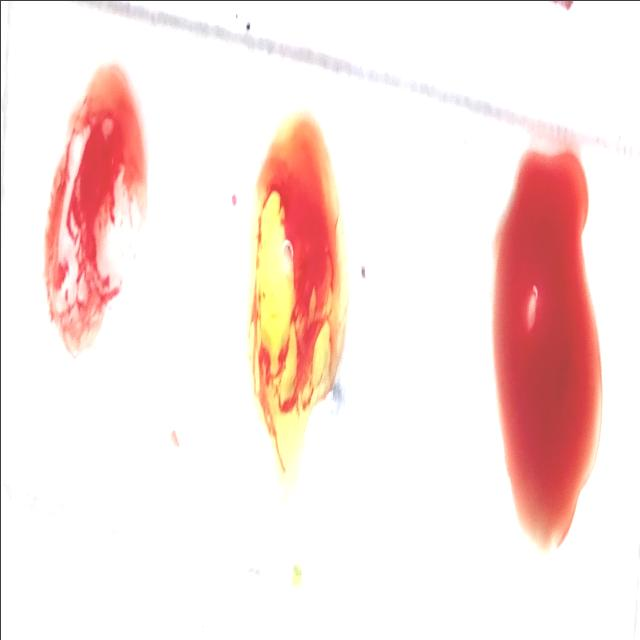B: (249, 108, 353, 476)
D: (46, 52, 148, 368)
